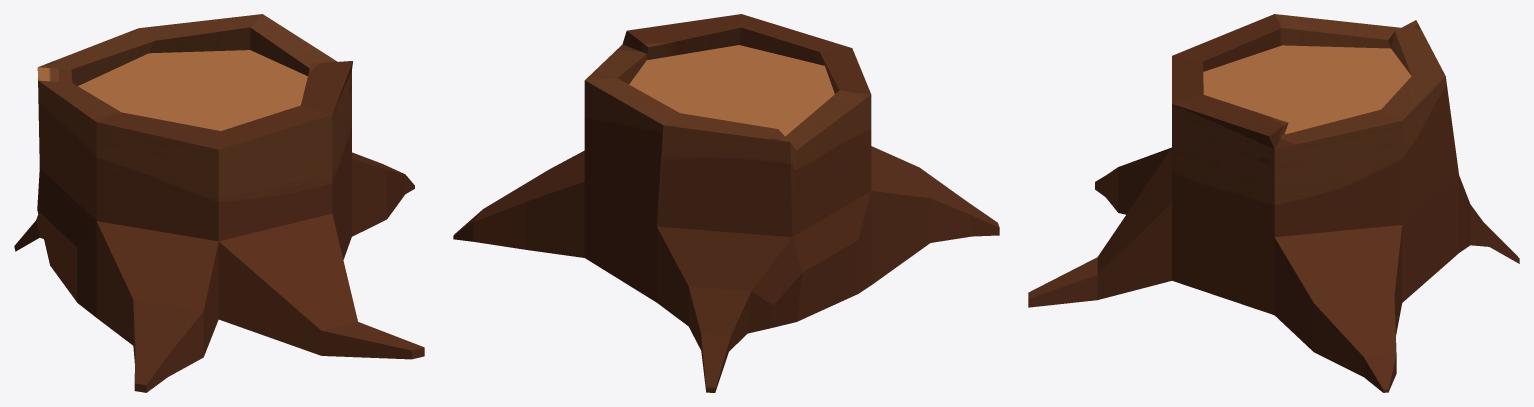
The model's file is boomstronk.glb.
3 renders of one model, left to right at view 1: azimuth 30°, elevation 25°; view 2: azimuth 150°, elevation 25°; view 3: azimuth 270°, elevation 25°, orthographic. The views are drawn at different scales.
Visible parts, largest first — view 1: boomstronk; view 2: boomstronk; view 3: boomstronk.
Boxes of the visible parts, x1,y1,x2,y2 form: boomstronk: (14, 14, 424, 392); boomstronk: (453, 14, 999, 392); boomstronk: (1028, 14, 1519, 392).
Size of the model in its own units: 3.21 by 1.7 by 3.25.
1 material, 1 textured.
